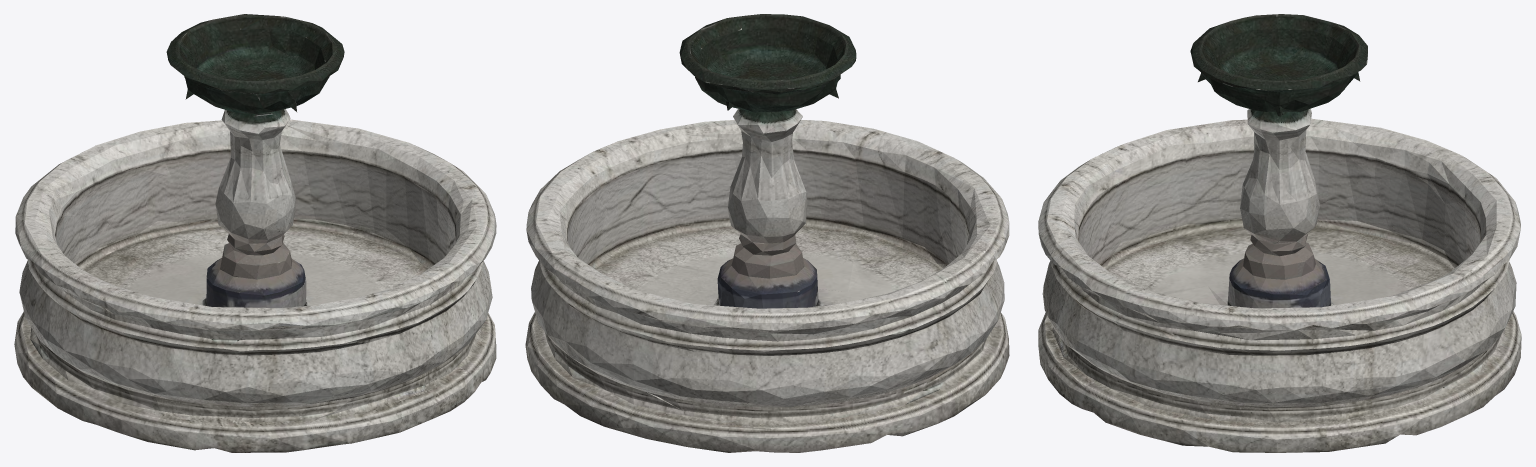
Rendered from fountain.glb.
The picture shows the model from 3 angles, left to right: view 1: azimuth 30°, elevation 25°; view 2: azimuth 150°, elevation 25°; view 3: azimuth 270°, elevation 25°; orthographic projection.
Parts seen in each view (by area): view 1: lo; view 2: lo; view 3: lo.
Boxes of the visible parts, x1=… form: lo: x1=14, y1=14, x2=496, y2=452; lo: x1=525, y1=14, x2=1009, y2=452; lo: x1=1038, y1=14, x2=1521, y2=452.
Size of the model in its own units: 0.9997 by 0.6972 by 0.9976.
Materials: 1 (1 with a texture image).
